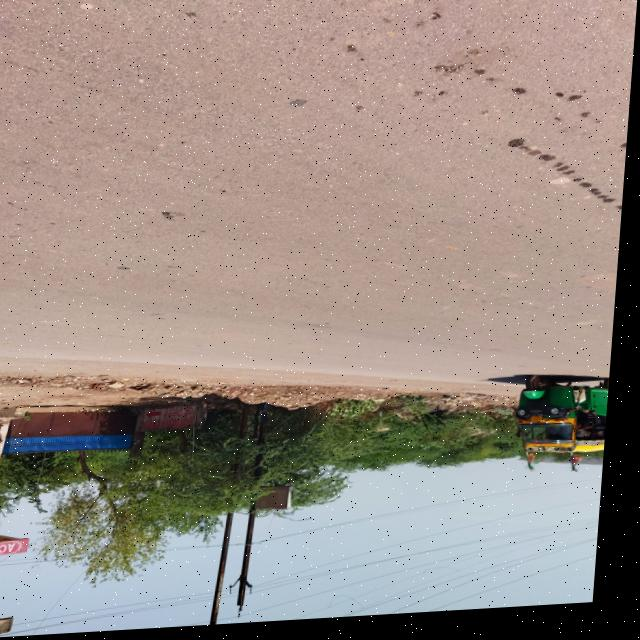plate: (536, 422, 551, 429)
